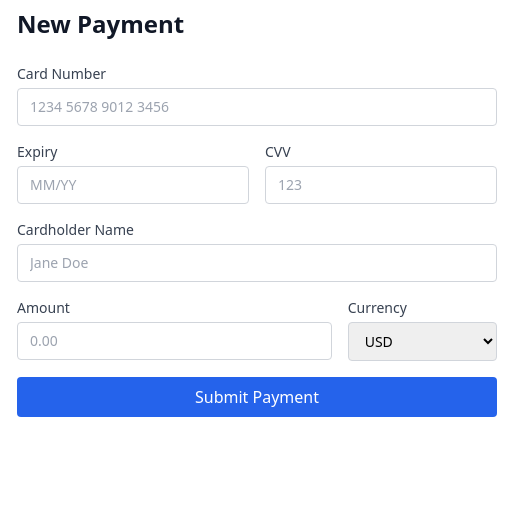
Scenario: shows card number format error for too-short number
Step 1. Type "1234" into the field labelled "Card Number" → {"x": 257, "y": 107}, box [17,88,497,126]
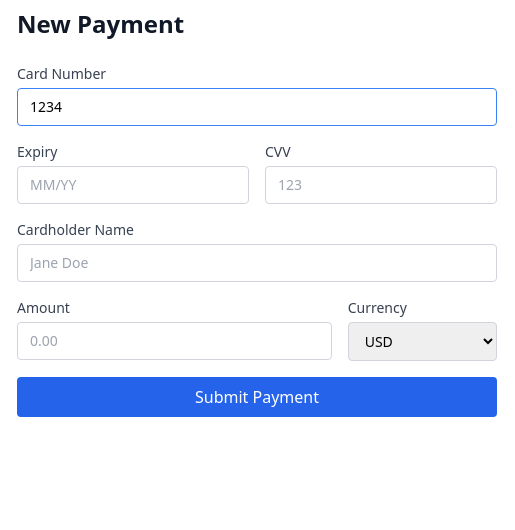
Step 2. Click the button "Submit Payment" → {"x": 257, "y": 397}, box [17,377,497,417]
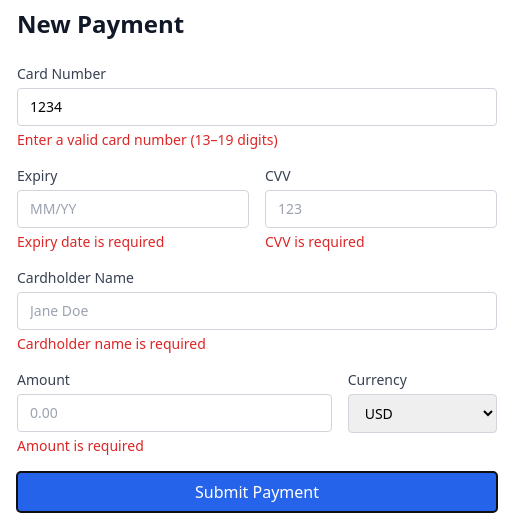
Now the text "Enter a valid card number (13–19 digits)" is shown, box [17,130,278,149]
